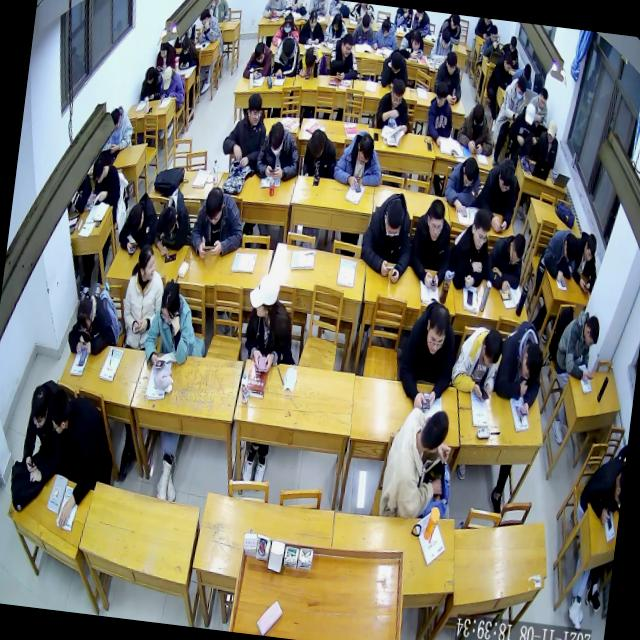bow: (491, 314, 550, 420), (64, 288, 120, 360), (148, 184, 196, 262), (115, 185, 162, 258), (440, 152, 483, 216), (538, 223, 580, 284), (378, 44, 412, 92), (241, 38, 274, 82), (271, 10, 301, 49), (295, 42, 324, 80), (398, 24, 427, 62)
down: (46, 386, 74, 440), (517, 338, 546, 386), (25, 384, 53, 433), (156, 277, 183, 327), (466, 208, 494, 255), (477, 327, 505, 372), (202, 184, 226, 228), (379, 199, 404, 241), (72, 295, 96, 338), (494, 156, 518, 197), (264, 120, 288, 160), (156, 202, 180, 240), (504, 232, 528, 269), (354, 132, 377, 170), (581, 312, 602, 350), (124, 202, 146, 238), (387, 74, 408, 110), (306, 126, 326, 162), (468, 100, 488, 134), (460, 156, 480, 190), (580, 230, 598, 266), (431, 78, 450, 112), (561, 232, 580, 266), (90, 156, 108, 186), (337, 30, 355, 60), (512, 74, 529, 103), (280, 34, 296, 64), (388, 48, 404, 76), (442, 50, 458, 78), (543, 118, 559, 146), (521, 101, 537, 128), (302, 44, 318, 70), (252, 39, 268, 64), (160, 64, 174, 92), (108, 106, 123, 132), (535, 86, 550, 112), (409, 25, 422, 51), (281, 10, 295, 34), (358, 12, 372, 36), (438, 28, 452, 52), (306, 7, 320, 30), (378, 14, 391, 38), (501, 52, 514, 74), (142, 66, 156, 86), (330, 10, 343, 31), (488, 22, 500, 44), (179, 36, 192, 56), (158, 40, 170, 60), (507, 34, 518, 54)
lookup: (420, 302, 452, 358), (423, 198, 448, 245), (243, 91, 264, 129)
sit: (34, 382, 114, 532), (392, 293, 462, 415), (238, 266, 302, 378), (357, 185, 419, 286), (118, 238, 171, 352), (17, 374, 69, 490), (140, 277, 202, 374), (186, 182, 249, 264), (405, 196, 457, 292), (448, 322, 506, 404), (445, 204, 496, 294), (218, 88, 271, 174), (574, 447, 626, 528), (474, 150, 524, 234), (330, 124, 387, 194), (552, 306, 603, 384), (253, 117, 304, 182), (484, 227, 528, 293), (372, 74, 415, 138), (454, 97, 499, 156), (422, 77, 458, 149), (503, 98, 542, 158), (568, 228, 602, 295), (300, 126, 340, 182), (86, 154, 124, 212), (268, 21, 304, 81), (326, 28, 363, 82), (432, 48, 466, 106), (103, 104, 136, 155), (498, 72, 530, 124), (369, 10, 402, 56), (536, 115, 562, 170), (156, 65, 188, 107), (486, 48, 514, 95), (297, 6, 327, 46), (195, 6, 224, 44), (428, 25, 456, 64), (138, 64, 164, 104), (323, 9, 351, 46), (176, 34, 202, 72), (154, 36, 178, 75), (352, 9, 376, 47), (498, 32, 522, 70), (482, 22, 504, 60)
